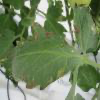Tomato leaf bacterial spot: (1, 22, 80, 91), (71, 2, 99, 58)
